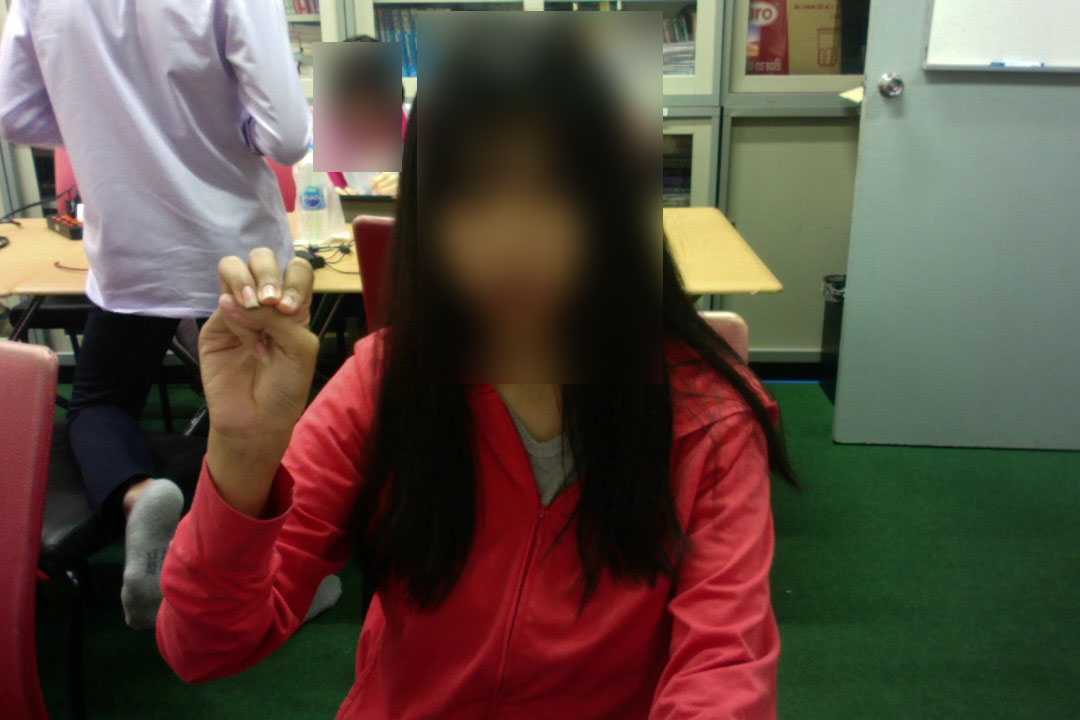mor: (193, 238, 323, 451)
